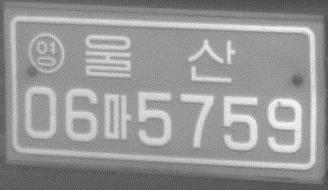0: (23, 84, 58, 140)
5: (221, 93, 259, 151), (136, 90, 173, 147)
6: (64, 87, 98, 143)
7: (177, 91, 216, 150)
9: (264, 97, 304, 155)
마: (102, 92, 133, 141)
영: (27, 31, 65, 74)
울산_D: (82, 31, 236, 85)
